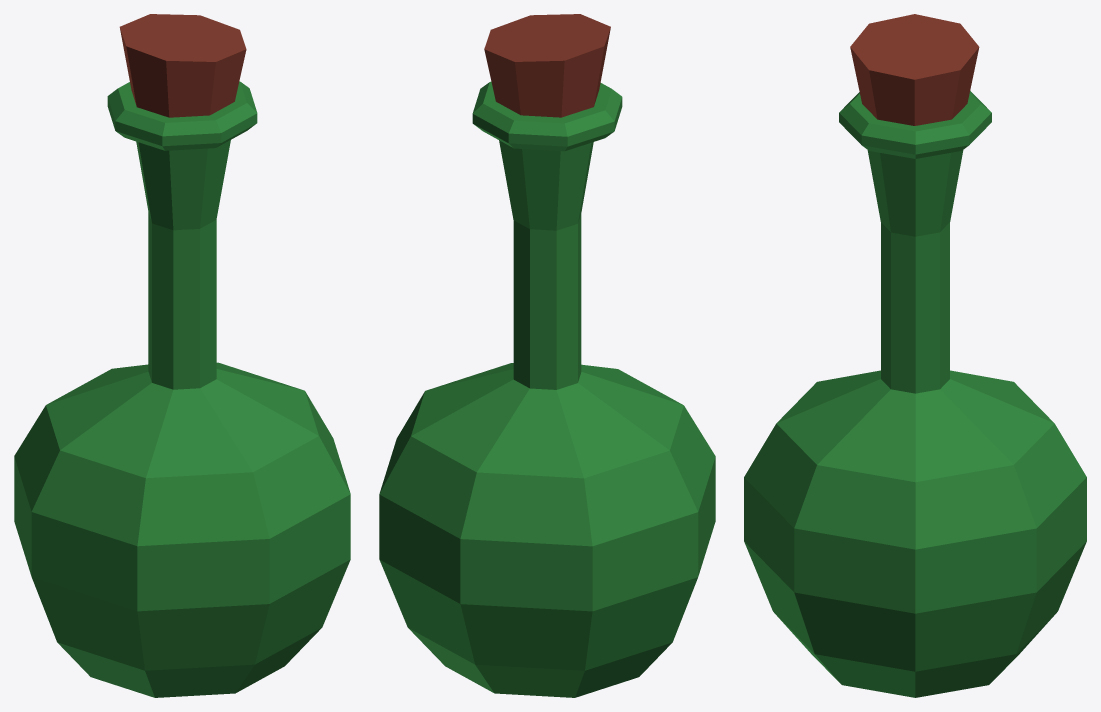
File: potion_test_1.fbx
The picture shows the model from 3 angles, left to right: view 1: azimuth 30°, elevation 25°; view 2: azimuth 150°, elevation 25°; view 3: azimuth 270°, elevation 25°; orthographic projection.
Parts seen in each view (by area): view 1: bottle, Circle.001; view 2: bottle, Circle.001; view 3: bottle, Circle.001.
Boxes of the visible parts, x1,y1,x2,y2 form: bottle: (14,81,350,697); Circle.001: (119,14,246,117); bottle: (379,81,715,697); Circle.001: (484,14,610,117); bottle: (744,91,1086,697); Circle.001: (850,14,979,125).
Size of the model in its own units: 237 by 467 by 237.
